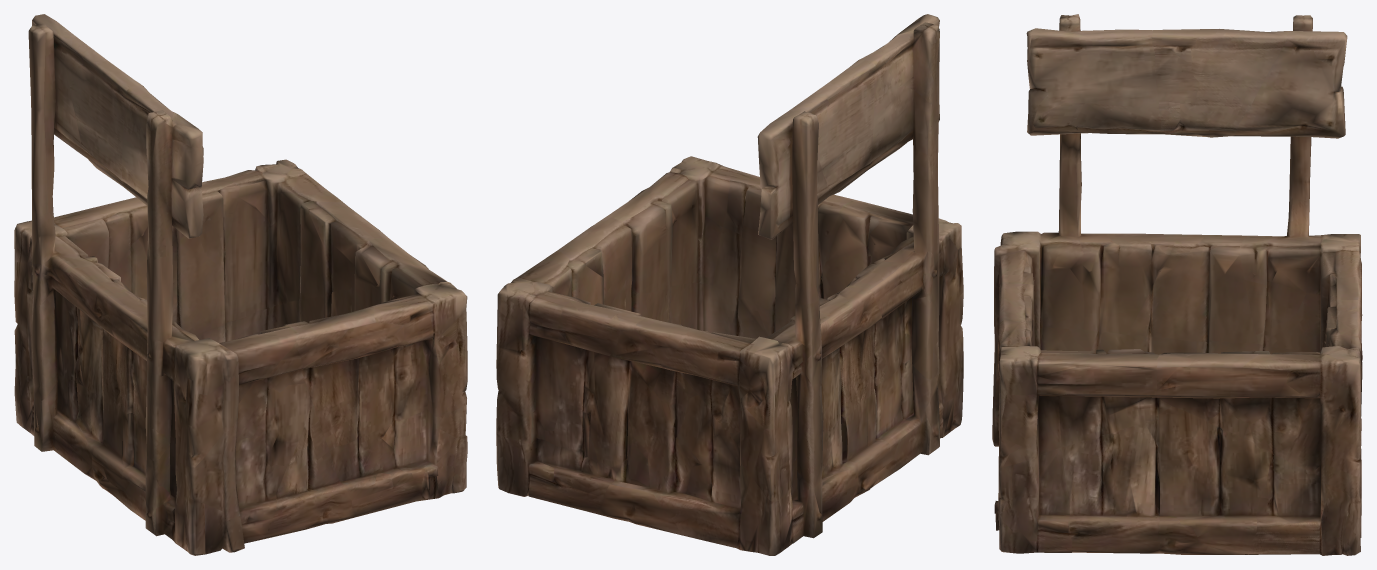
Rendered from crate.glb.
3 renders of one model, left to right at view 1: azimuth 30°, elevation 25°; view 2: azimuth 150°, elevation 25°; view 3: azimuth 270°, elevation 25°, orthographic. The views are drawn at different scales.
Visible parts, largest first — view 1: tripo_node_d06c7c9e-44e2-424e-9fb6-6d869a20ed7c; view 2: tripo_node_d06c7c9e-44e2-424e-9fb6-6d869a20ed7c; view 3: tripo_node_d06c7c9e-44e2-424e-9fb6-6d869a20ed7c.
Boxes of the visible parts, x1,y1,x2,y2 form: tripo_node_d06c7c9e-44e2-424e-9fb6-6d869a20ed7c: (14,14,467,555); tripo_node_d06c7c9e-44e2-424e-9fb6-6d869a20ed7c: (496,14,963,555); tripo_node_d06c7c9e-44e2-424e-9fb6-6d869a20ed7c: (992,14,1362,555).
Bounding box in the file's own units: 0.7227 × 0.9987 × 0.8204.
1 material, 1 textured.
